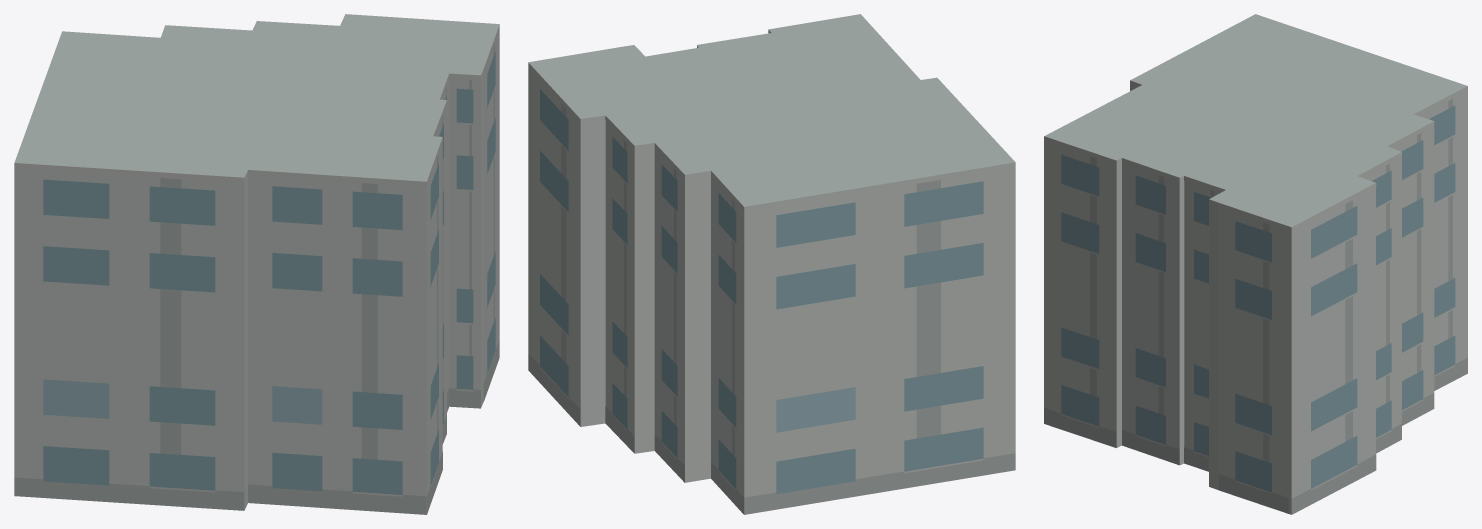
Rendered from survey-upis-32586024.glb.
3 renders of one model, left to right at view 1: azimuth 30°, elevation 25°; view 2: azimuth 150°, elevation 25°; view 3: azimuth 270°, elevation 25°, orthographic. The views are drawn at different scales.
Visible parts, largest first — view 1: survey-upis-32586024.tmp; view 2: survey-upis-32586024.tmp; view 3: survey-upis-32586024.tmp.
Boxes of the visible parts, x1,y1,x2,y2 form: survey-upis-32586024.tmp: [14, 14, 499, 514]; survey-upis-32586024.tmp: [528, 14, 1015, 514]; survey-upis-32586024.tmp: [1044, 14, 1467, 514].
Size of the model in its own units: 22.91 by 14.4 by 19.24.
